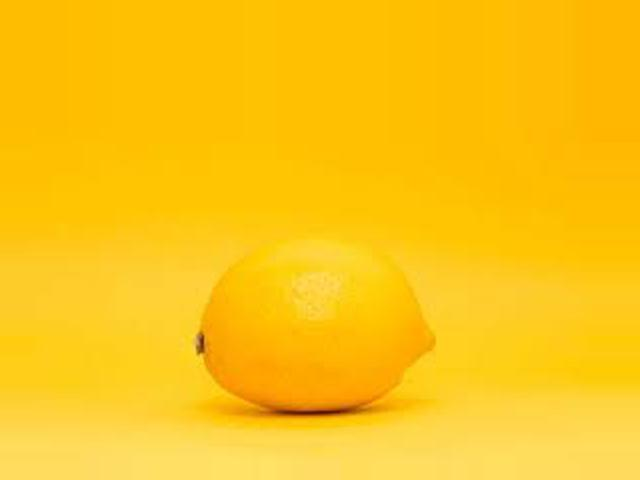lemon: (180, 225, 472, 423)
